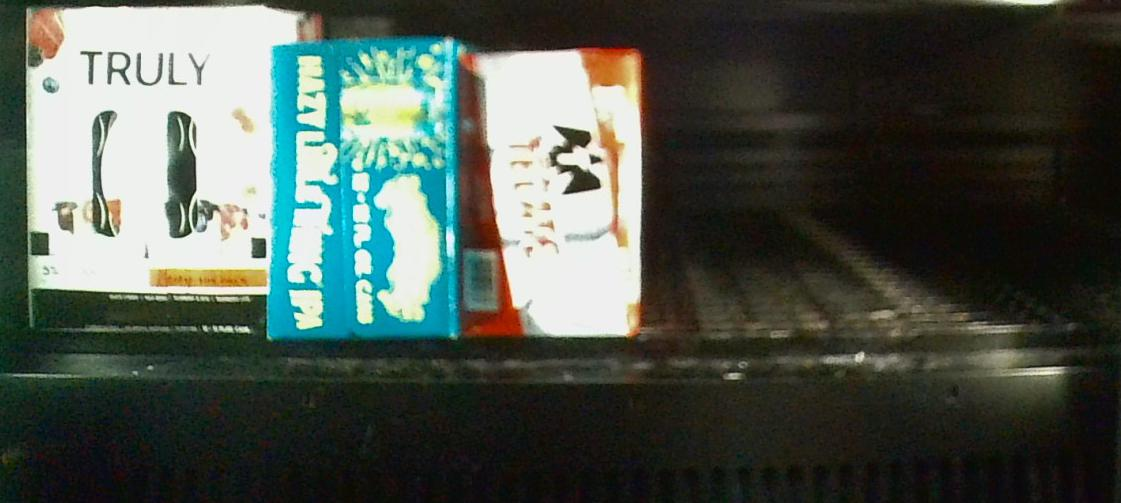bottle: (26, 4, 270, 342), (274, 37, 465, 334), (460, 50, 641, 338)
